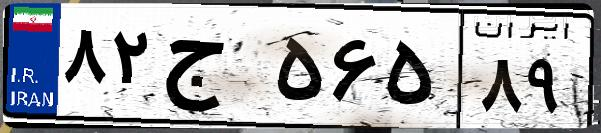2: (110, 28, 158, 98)
5: (270, 28, 330, 110), (385, 28, 445, 110)
6: (330, 28, 385, 110)
8: (57, 26, 110, 100), (475, 38, 525, 113)
9: (525, 38, 570, 115)
ج: (158, 20, 270, 120)
